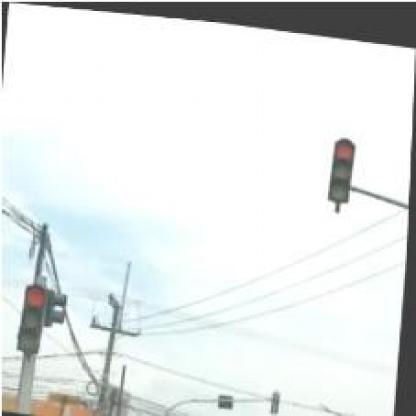red: (18, 281, 48, 353), (328, 130, 357, 196)
